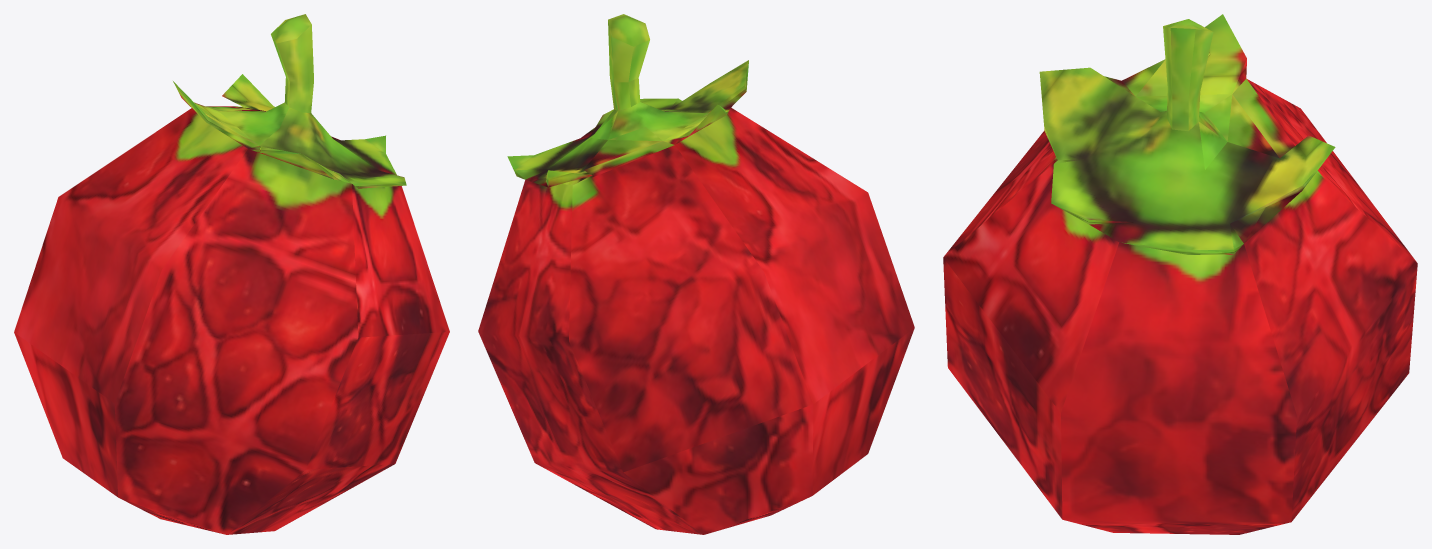
Rendered from Fruit01.glb.
3 renders of one model, left to right at view 1: azimuth 30°, elevation 25°; view 2: azimuth 150°, elevation 25°; view 3: azimuth 270°, elevation 25°, orthographic. The views are drawn at different scales.
Visible parts, largest first — view 1: Fruit01; view 2: Fruit01; view 3: Fruit01.
Boxes of the visible parts, x1,y1,x2,y2 form: Fruit01: (14,14,449,534); Fruit01: (478,14,914,534); Fruit01: (943,14,1417,534).
Bounding box in the file's own units: 0.2791 × 0.3755 × 0.2974.
Materials: 1 (1 with a texture image).
